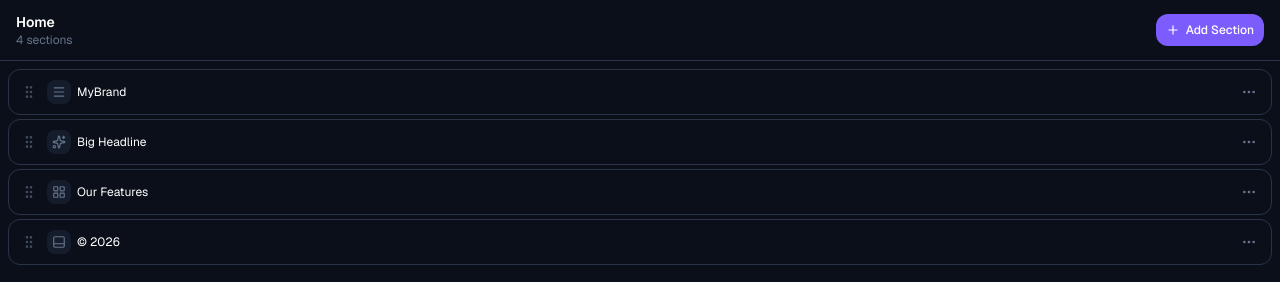
Test: PageStructurePanel action menu › move up is disabled for the first item
Click the button named "Actions for Header" at (1249, 92), box x1=1235 y1=78 x2=1263 y2=106
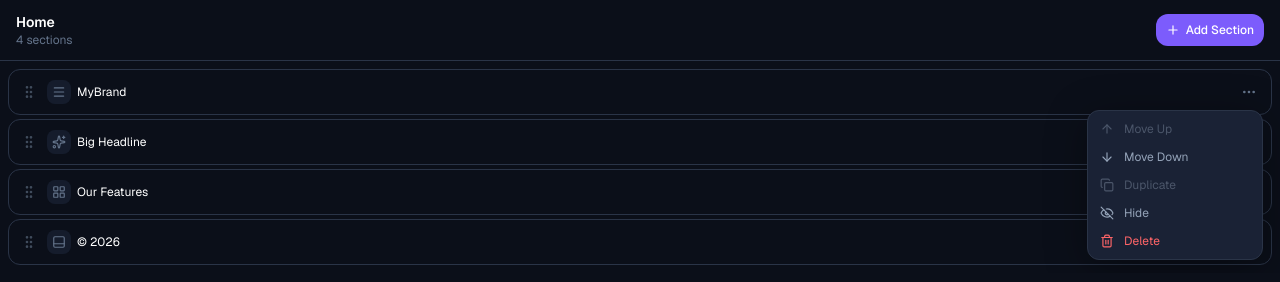
Expected: the menu item with test id "section-action-move-up" is disabled, x1=1088 y1=115 x2=1262 y2=143
